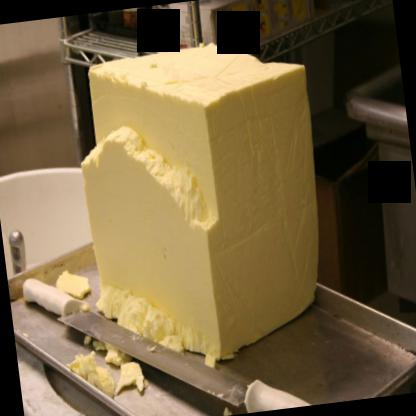butter: (72, 31, 336, 370)
